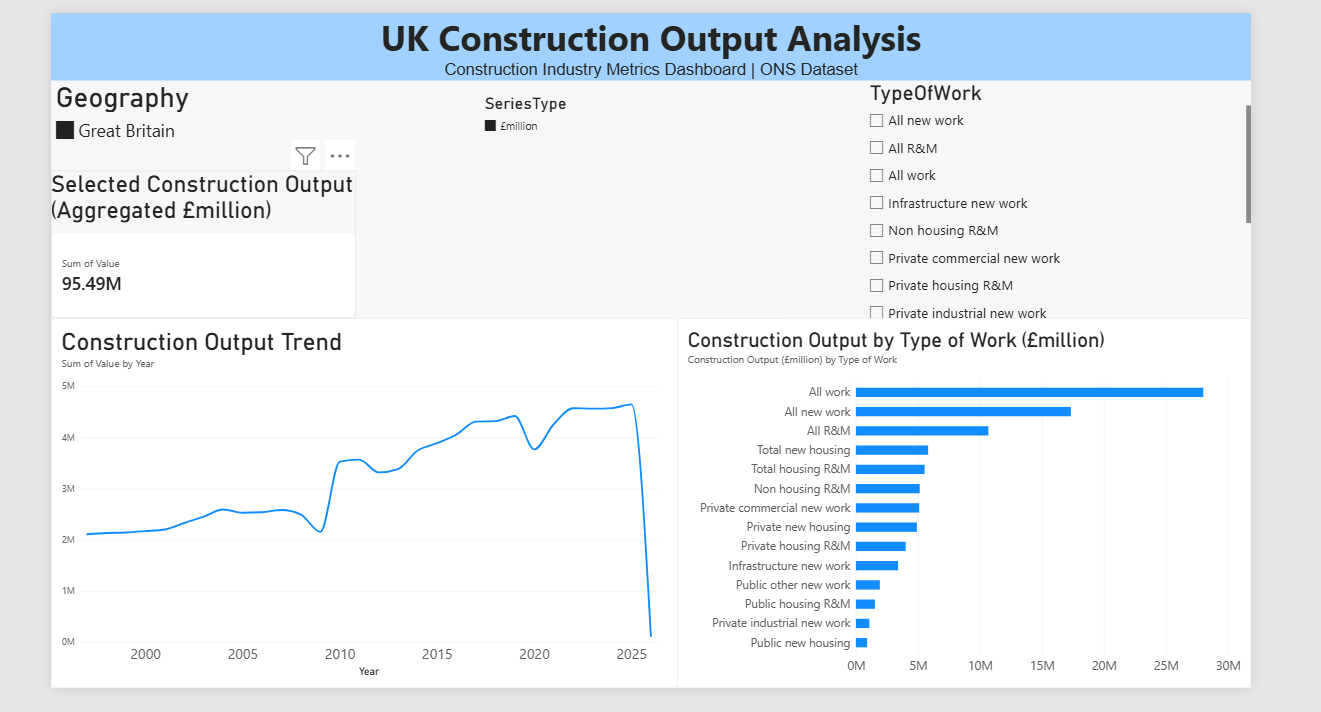

The dashboard page shown, as its layout file describes it:
{"tool":"powerbi","page":{"name":"Page 1","canvas":[1920,1080],"ordinal":0},"visuals":[{"type":"lineChart","title":"Construction Output Trend","fields":{"Category":["ONS_Construction_Output.MonthDate.Variation.Date Hierarchy.Year","ONS_Construction_Output.MonthDate.Variation.Date Hierarchy.Quarter","ONS_Construction_Output.MonthDate.Variation.Date Hierarchy.Month","ONS_Construction_Output.MonthDate.Variation.Date Hierarchy.Day"],"Y":["Sum(ONS_Construction_Output.Value)"]},"box":[0,488,1002,592],"z":0},{"type":"clusteredBarChart","title":"Construction Output by Type of Work (£million)","fields":{"Category":["ONS_Construction_Output.TypeOfWork"],"Y":["Sum(ONS_Construction_Output.Value)"]},"box":[1002,488,918,592],"z":1000},{"type":"slicer","title":"Geography slicer","fields":{"Values":["ONS_Construction_Output.Geography"]},"box":[0,108,488,144],"z":2000},{"type":"slicer","fields":{"Values":["ONS_Construction_Output.TypeOfWork"]},"box":[1302,108,618,380],"z":3000},{"type":"slicer","fields":{"Values":["ONS_Construction_Output.SeriesType"]},"box":[686,128,234,102],"z":4000},{"type":"textbox","box":[0,0,1920,108],"z":5000},{"type":"cardVisual","title":"Selected Construction Output (Aggregated £million)","fields":{"Data":["Sum(ONS_Construction_Output.Value)"]},"box":[0,252,488,236],"z":6000}]}

Visuals, with their boxes on the page's 1920x1080 design canvas (x1, y1, x2, y2). These are canvas units, not pixel positions in the 1321x712 screenshot, which may show the page scaled, cropped or inside an application window:
"Construction Output Trend" lineChart: x1=0, y1=488, x2=1002, y2=1080
"Construction Output by Type of Work (£million)" clusteredBarChart: x1=1002, y1=488, x2=1920, y2=1080
"Geography slicer" slicer: x1=0, y1=108, x2=488, y2=252
slicer - ONS_Construction_Output.TypeOfWork: x1=1302, y1=108, x2=1920, y2=488
slicer - ONS_Construction_Output.SeriesType: x1=686, y1=128, x2=920, y2=230
textbox: x1=0, y1=0, x2=1920, y2=108
"Selected Construction Output (Aggregated £million)" cardVisual: x1=0, y1=252, x2=488, y2=488
